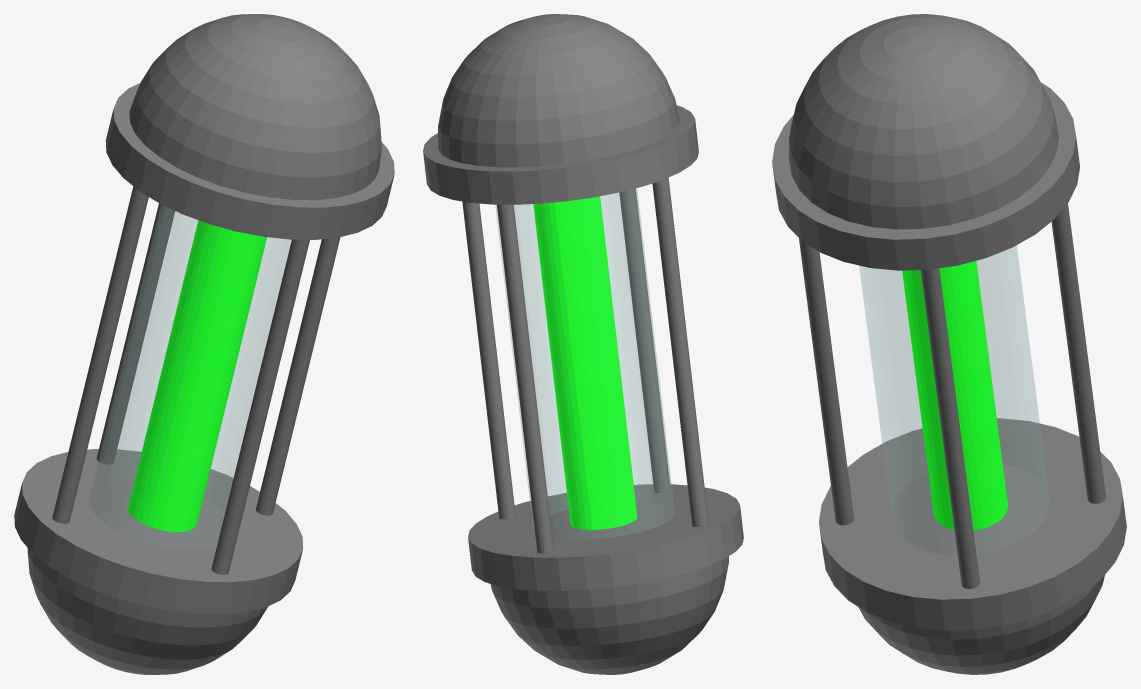
The model's file is VolatileThoriumBattery.fbx.
3 renders of one model, left to right at view 1: azimuth 30°, elevation 25°; view 2: azimuth 150°, elevation 25°; view 3: azimuth 270°, elevation 25°, orthographic. The views are drawn at different scales.
Visible parts, largest first — view 1: case, core; view 2: case, core; view 3: case, core.
Part boxes in pixels (x1,y1,x2,y2): case: (14, 14, 394, 674); core: (89, 204, 291, 549); case: (423, 14, 743, 674); core: (495, 188, 674, 539); case: (772, 14, 1126, 674); core: (859, 245, 1049, 555).
Size of the model in its own units: 836 by 1587 by 756.
